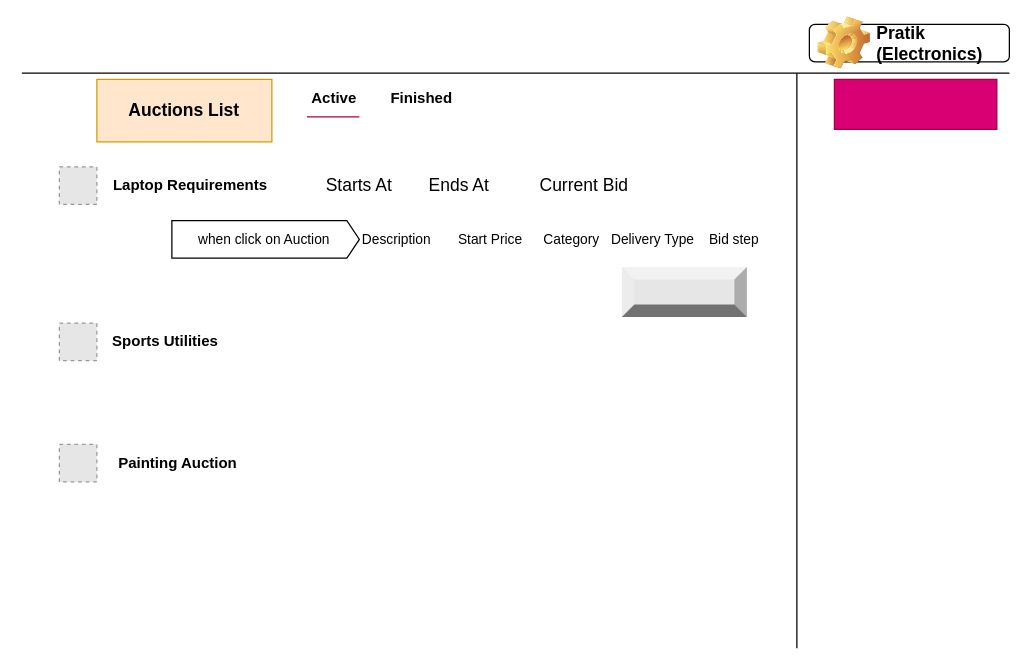
Some shapes in this 1033 by 671 pixel diagram are drawn without their labels. Grey dashed boxes stand in for pictures. Each missing label, with the centre of its shape:
"Bid" goes at pixel 683 291.
"Vendors" goes at pixel 915 103.
